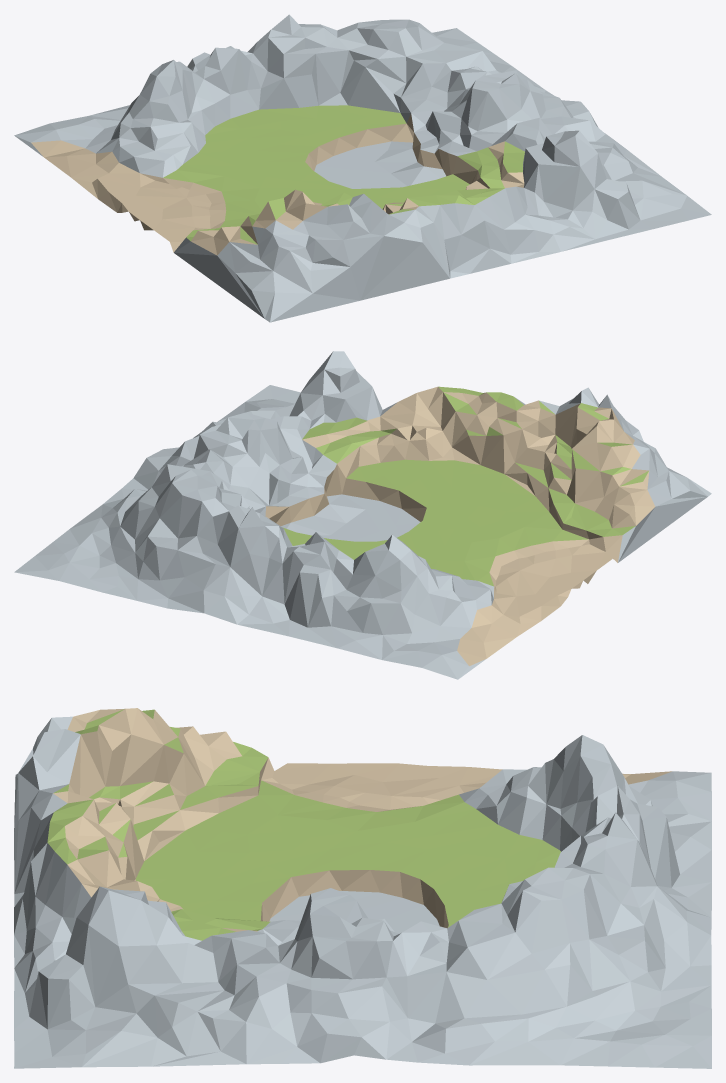
Rendered from howling_map_v2(400x400).fbx.
The picture shows the model from 3 angles, top to bottom: view 1: azimuth 30°, elevation 25°; view 2: azimuth 150°, elevation 25°; view 3: azimuth 270°, elevation 25°; orthographic projection. The views are drawn at different scales.
Visible parts, largest first — view 1: Terrain.001; view 2: Terrain.001; view 3: Terrain.001.
Part boxes in pixels (bbox=[...]): Terrain.001: bbox=[14, 14, 711, 322]; Terrain.001: bbox=[14, 351, 711, 679]; Terrain.001: bbox=[14, 708, 711, 1068].
Size of the model in its own units: 40167 by 7864 by 40016.
